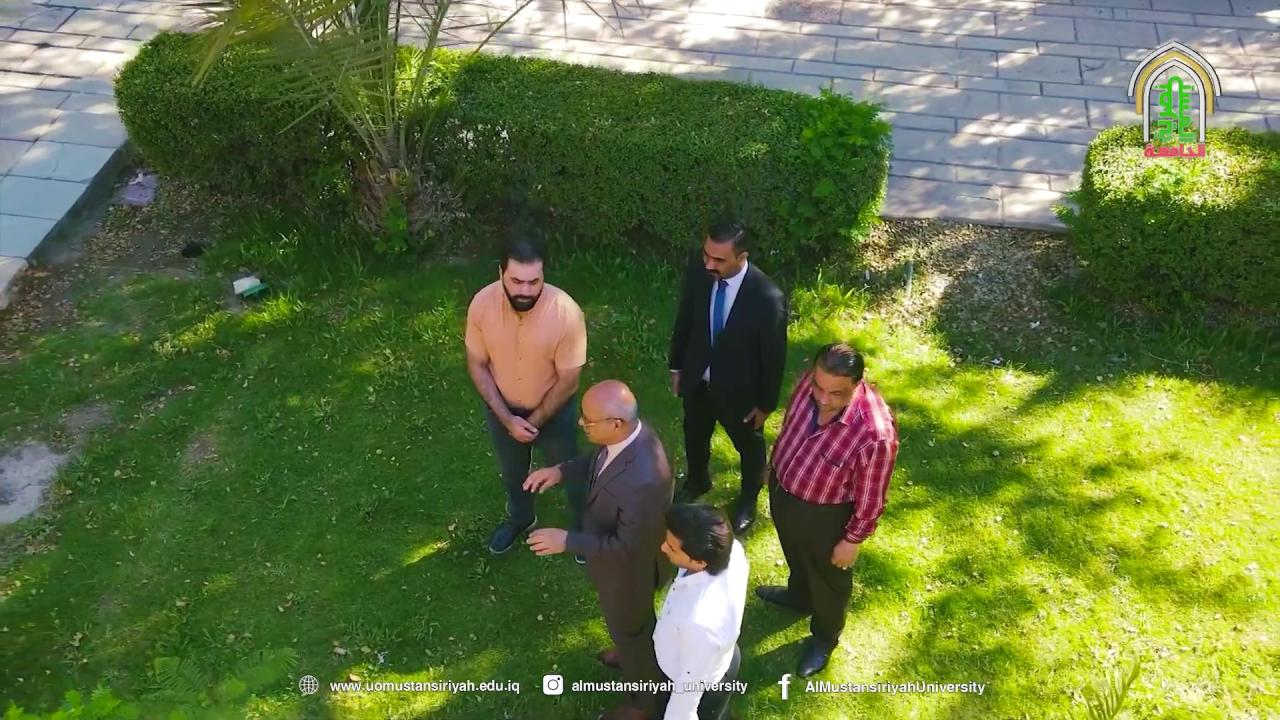person: (522, 378, 676, 718), (754, 341, 899, 679), (463, 229, 588, 556), (667, 219, 788, 535), (598, 502, 750, 720)
tree: (161, 0, 660, 255), (1066, 106, 1276, 352)
